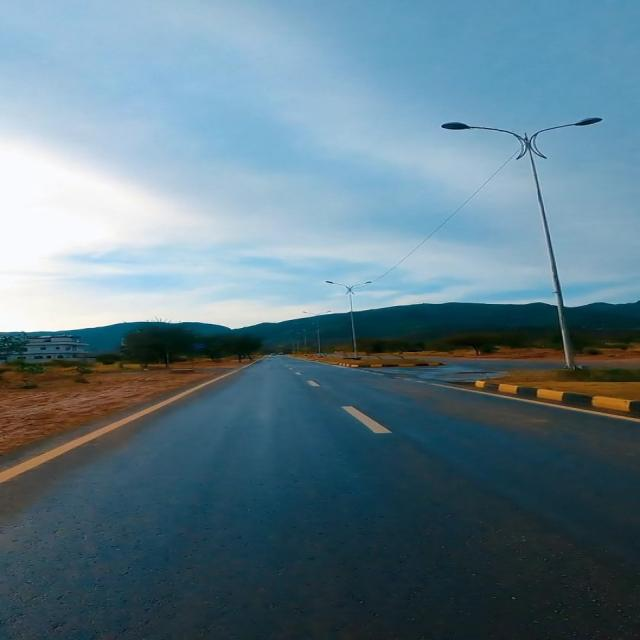asphalt: (0, 355, 639, 639)
grass: (498, 370, 639, 400)
red-sand: (0, 361, 236, 455)
